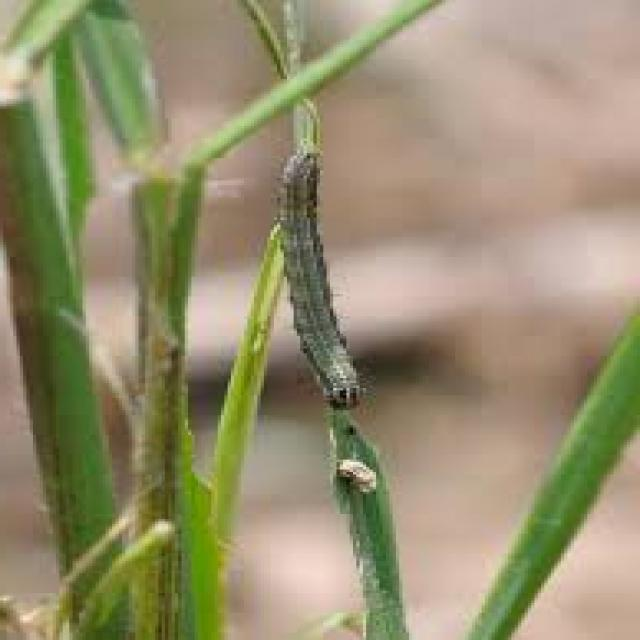armyworm: (270, 142, 362, 417)
